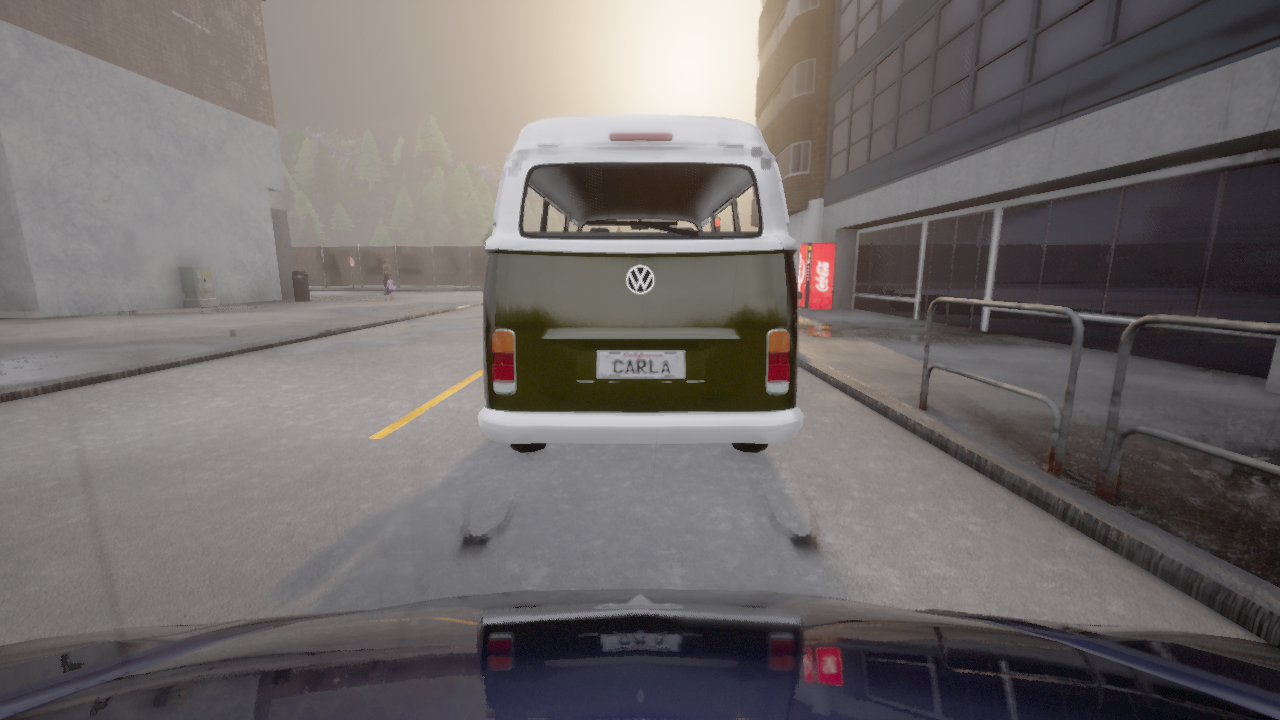cyclist: (0, 588, 1279, 719), (478, 115, 803, 452)
pedestrian: (385, 274, 396, 307), (383, 258, 390, 294)
